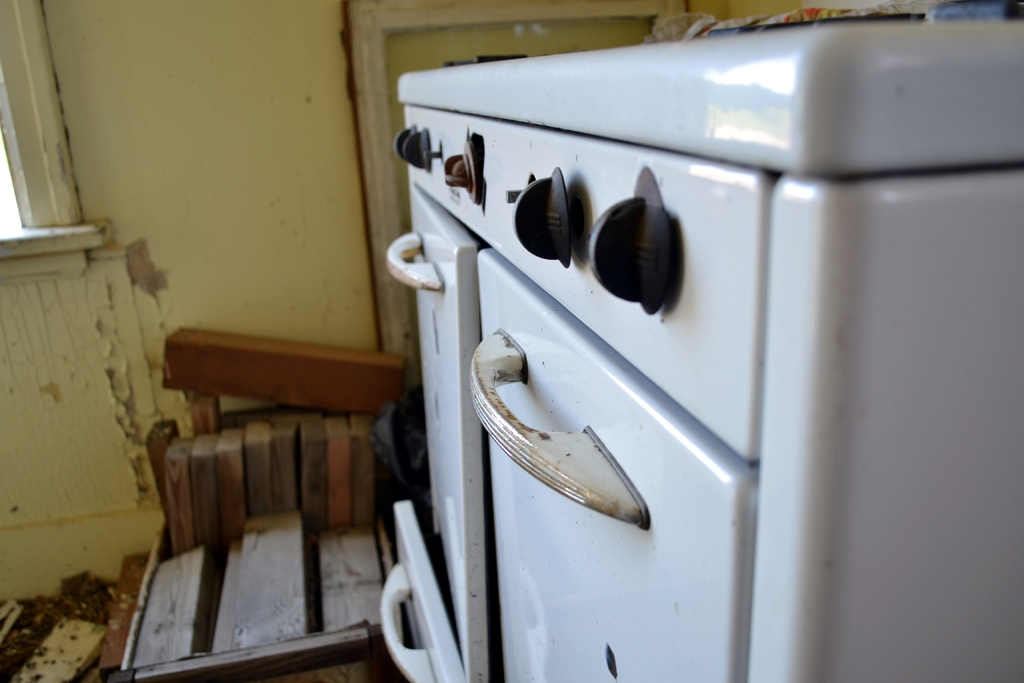Cabinetry: (385, 17, 1023, 679)
